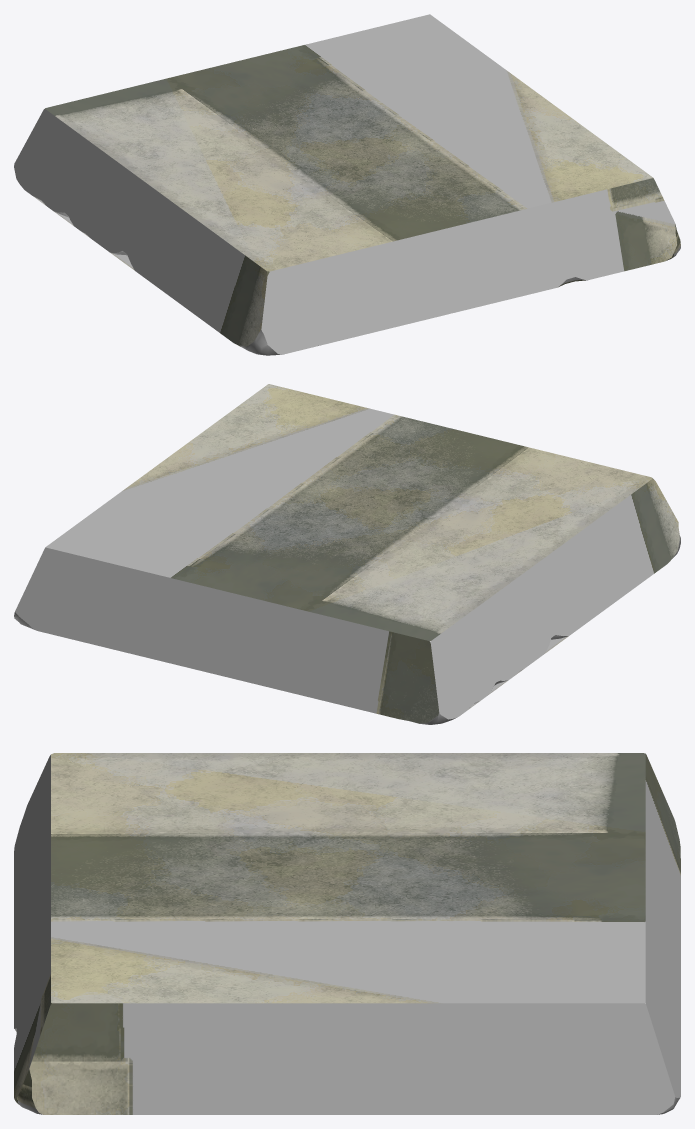
File: Dalle.fbx
The picture shows the model from 3 angles, top to bottom: view 1: azimuth 30°, elevation 25°; view 2: azimuth 150°, elevation 25°; view 3: azimuth 270°, elevation 25°; orthographic projection. The views are drawn at different scales.
Parts seen in each view (by area): view 1: Socle; view 2: Socle; view 3: Socle.
Boxes of the visible parts, x1,y1,x2,y2 form: Socle: (14,14,680,355); Socle: (14,384,680,724); Socle: (14,753,680,1114).
Size of the model in its own units: 48.48 by 7.78 by 48.66.
